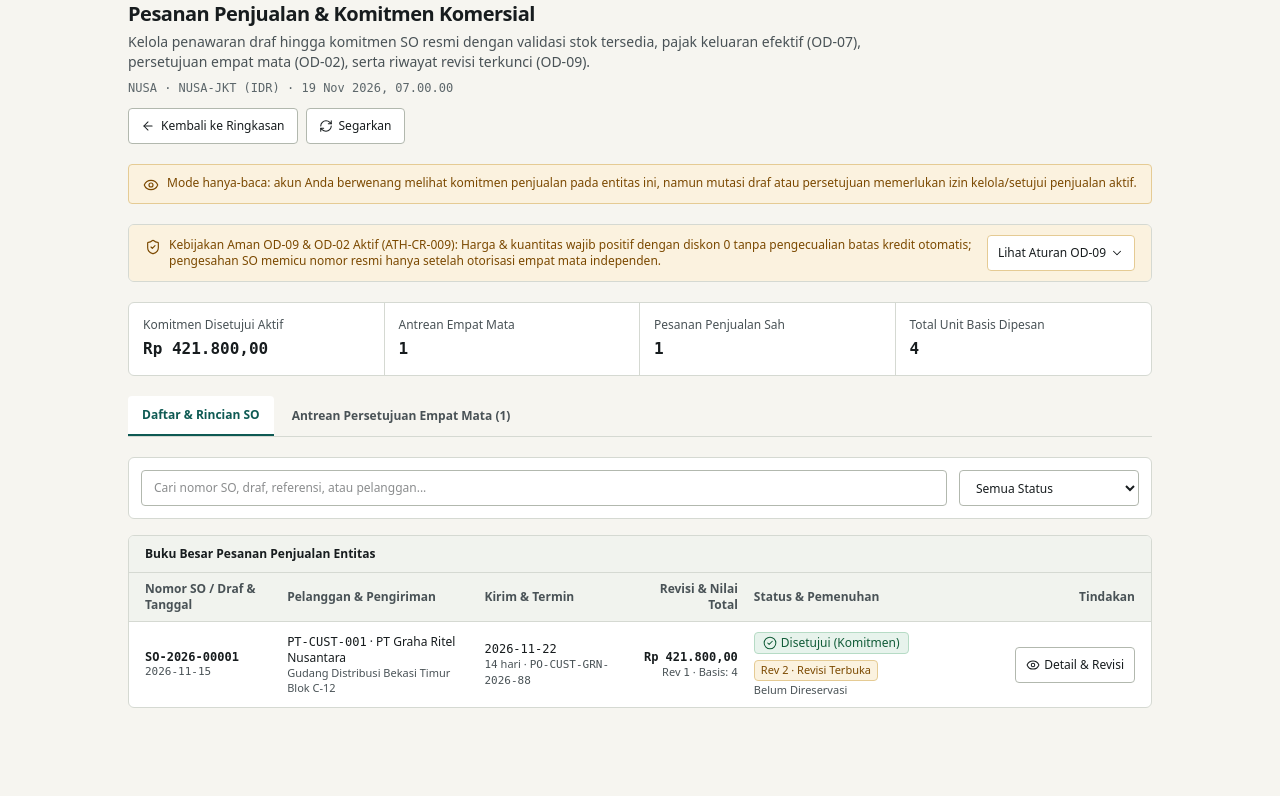
Test case: S12 Customer Sales Orders UI › shows read-only banner and hides composer, amend, and approval buttons for sales.read-only viewers
Expected: the message with id "so-readonly-banner" is shown, left=128, top=164, right=1152, bottom=204
Click the button with test id "open-so-SO-2026-00001" at (1075, 665), box left=1015, top=647, right=1135, bottom=683
(page scrolled)
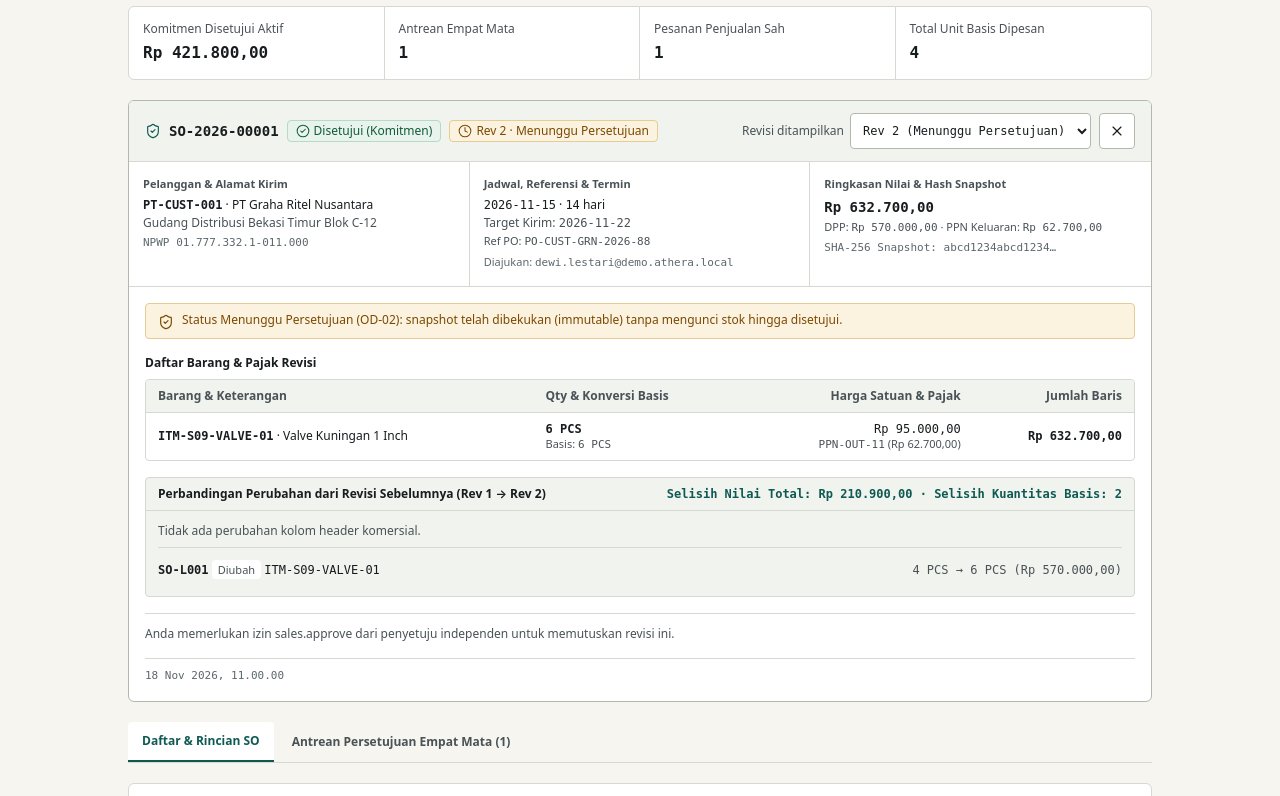
Expected: the element with id "so-detail-sheet" is shown
